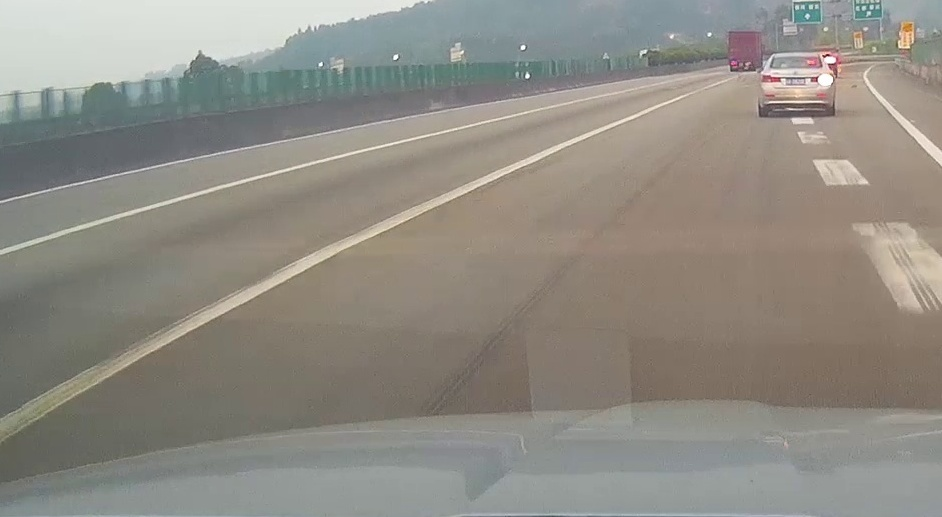L_light: (760, 75, 781, 83)
R_light: (811, 74, 833, 85)
T_light: (789, 64, 800, 68)
day-right: (758, 52, 835, 117)
